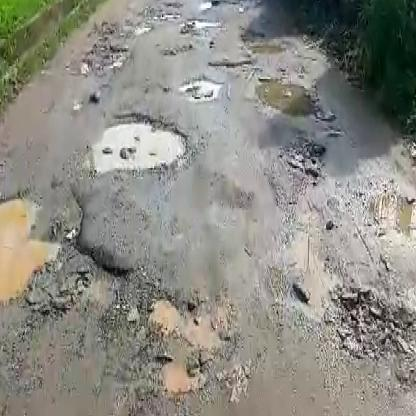pothole: (0, 182, 114, 315), (141, 296, 233, 397), (330, 284, 416, 366), (94, 111, 192, 176), (365, 189, 416, 252), (255, 77, 324, 117), (277, 136, 324, 184), (77, 43, 128, 79), (177, 75, 220, 101), (207, 57, 263, 73)
